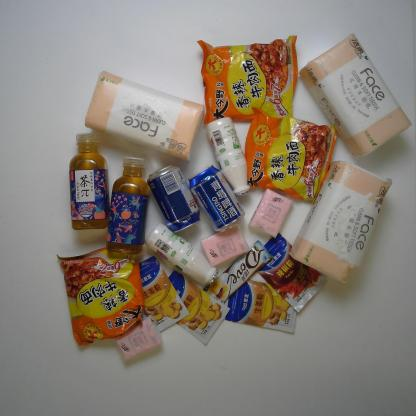Alcohol: (188, 164, 245, 234), (146, 164, 201, 234)
Chocolate: (202, 240, 274, 304)
Drink: (105, 156, 150, 255), (69, 132, 110, 232)
Instant Noodles: (243, 107, 339, 205), (196, 35, 300, 124), (56, 247, 145, 347)
Milk: (145, 222, 219, 286), (206, 117, 252, 198)
Seasoner: (256, 232, 328, 312), (168, 269, 230, 345), (138, 256, 190, 335), (224, 280, 298, 334)
Tissue: (298, 32, 413, 160), (288, 160, 392, 284), (83, 70, 206, 162), (247, 188, 294, 238), (115, 315, 163, 363), (200, 224, 250, 269)
